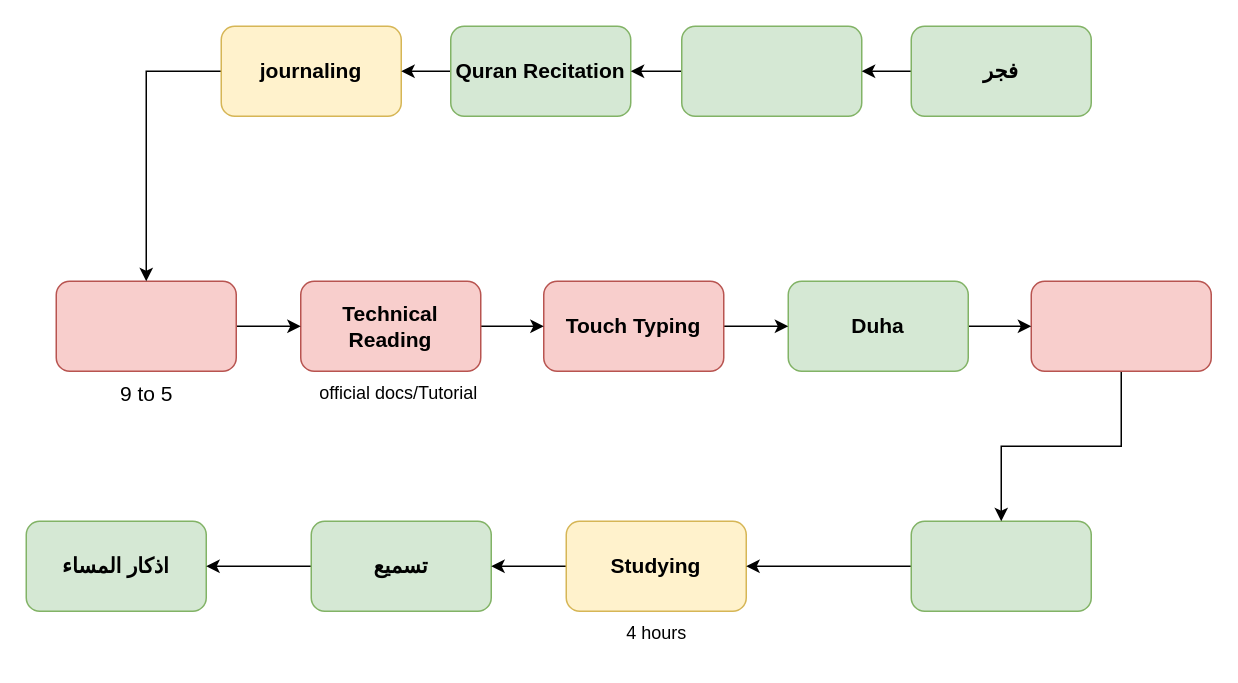
The diagram is 1238 pixels wide and 683 high, and some of its shapes have lost their labels. Here are the shapes that lost their labels. From the top down, the centre of each, then its label:
At [771,70]: "اذكار".
At [145,325]: "work".
At [1120,325]: "GYM".
At [1000,565]: "Witr".
